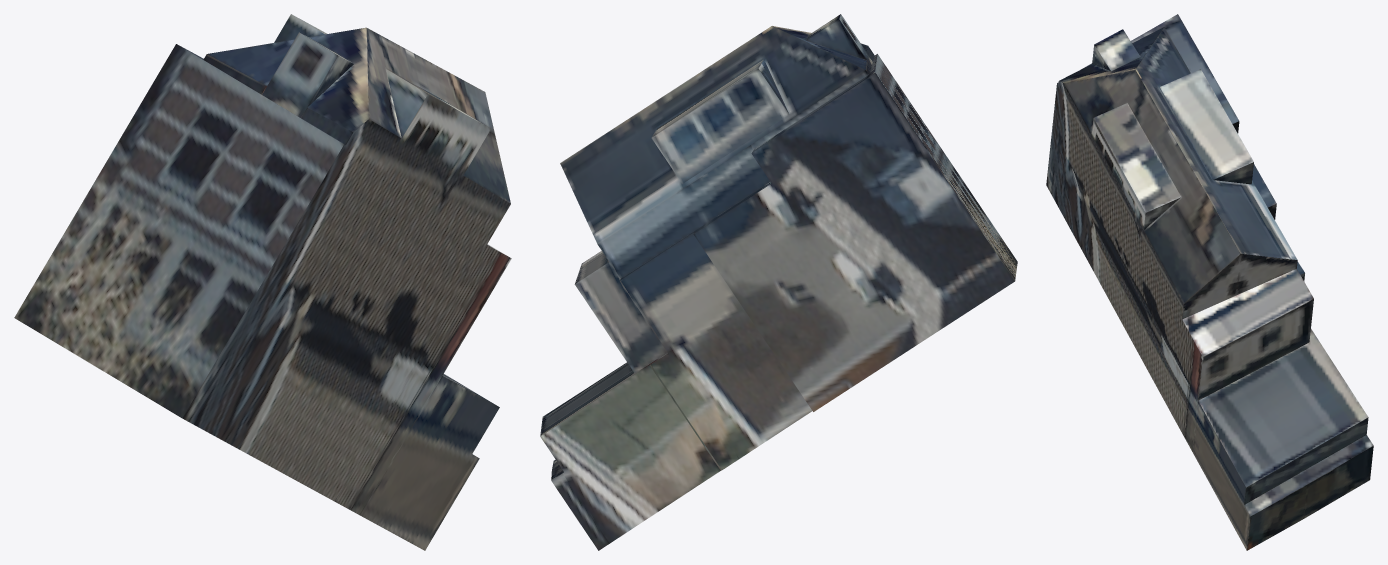
3 renders of one model, left to right at view 1: azimuth 30°, elevation 25°; view 2: azimuth 150°, elevation 25°; view 3: azimuth 270°, elevation 25°, orthographic. The views are drawn at different scales.
Parts seen in each view (by area): view 1: BAG_0599100000760377 (×7); view 2: BAG_0599100000760377 (×10); view 3: BAG_0599100000760377 (×9).
Part boxes in pixels (box(x1,y1,x2,y2)): BAG_0599100000760377 (×7): box(14, 14, 511, 550); BAG_0599100000760377 (×10): box(540, 14, 1017, 550); BAG_0599100000760377 (×9): box(1046, 14, 1373, 550).
Bounding box in the file's own units: 15.01 × 16.82 × 11.13.
Materials: 2 (1 with a texture image).
